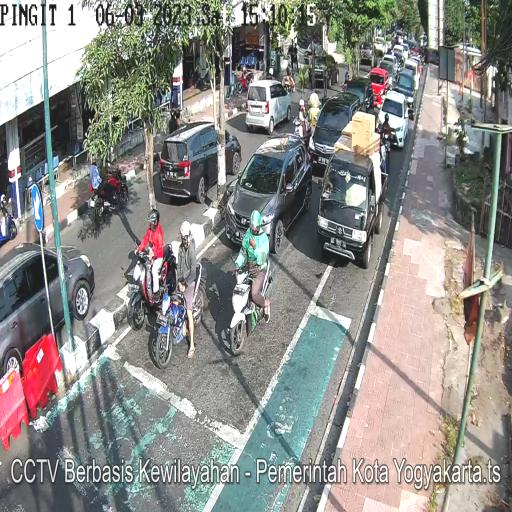mobil: (226, 132, 312, 254), (159, 119, 243, 205), (319, 152, 375, 276), (310, 94, 354, 179), (244, 78, 292, 133), (376, 90, 409, 148), (343, 76, 374, 122), (392, 71, 417, 119), (366, 67, 390, 102)
motor: (226, 258, 275, 354), (156, 284, 209, 371), (130, 240, 174, 330), (85, 167, 131, 225), (289, 111, 309, 151)
